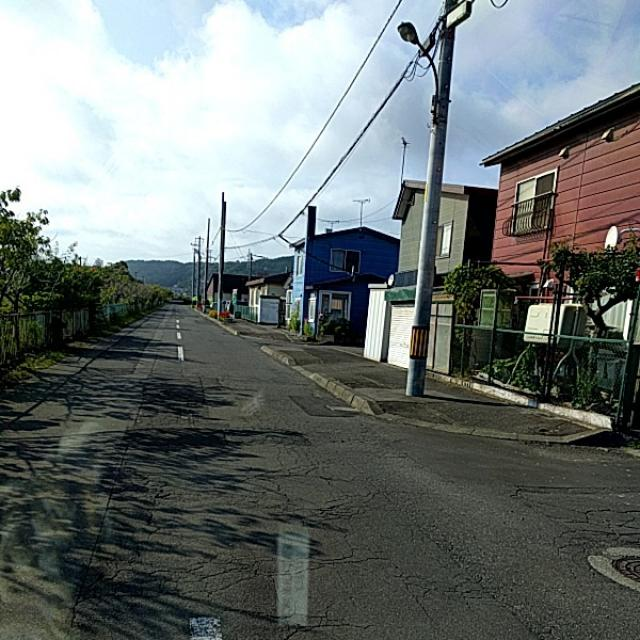pothole: (124, 417, 490, 627)
